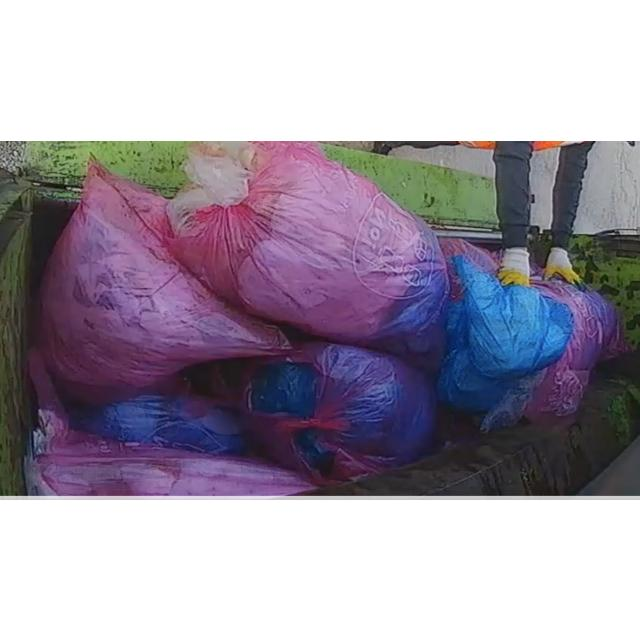other_trashbag: (169, 140, 449, 371), (39, 160, 290, 401), (176, 341, 436, 479), (438, 244, 625, 430)
